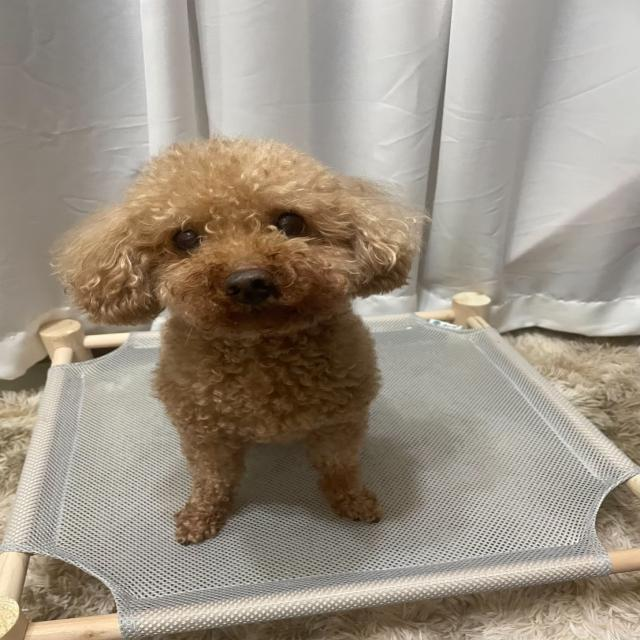adult_dog: (56, 135, 422, 546)
